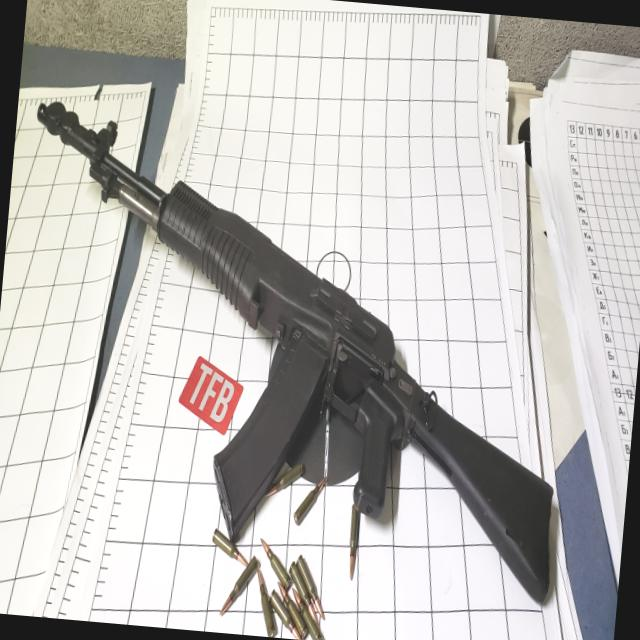long weapon: (0, 46, 591, 606)
